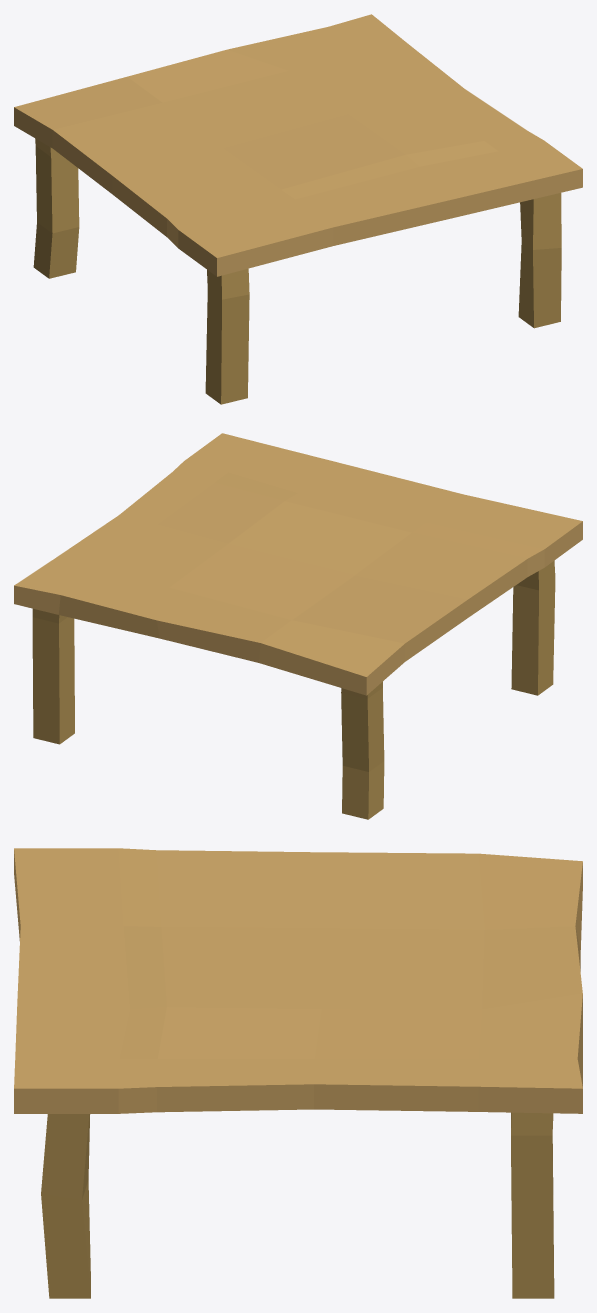
Rendered from Wood_tabke.001.fbx.
3 renders of one model, top to bottom at view 1: azimuth 30°, elevation 25°; view 2: azimuth 150°, elevation 25°; view 3: azimuth 270°, elevation 25°, orthographic. The views are drawn at different scales.
Visible parts, largest first — view 1: Wood_tabke.001; view 2: Wood_tabke.001; view 3: Wood_tabke.001.
Boxes of the visible parts, bbox=[...] form: Wood_tabke.001: bbox=[14, 14, 582, 404]; Wood_tabke.001: bbox=[14, 433, 582, 819]; Wood_tabke.001: bbox=[14, 848, 582, 1298].
Size of the model in its own units: 382 by 162 by 382.
